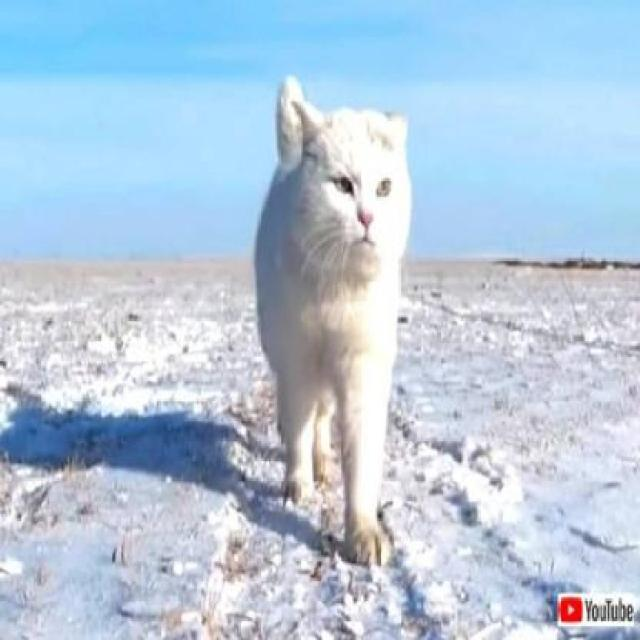cat: (255, 77, 414, 568)
